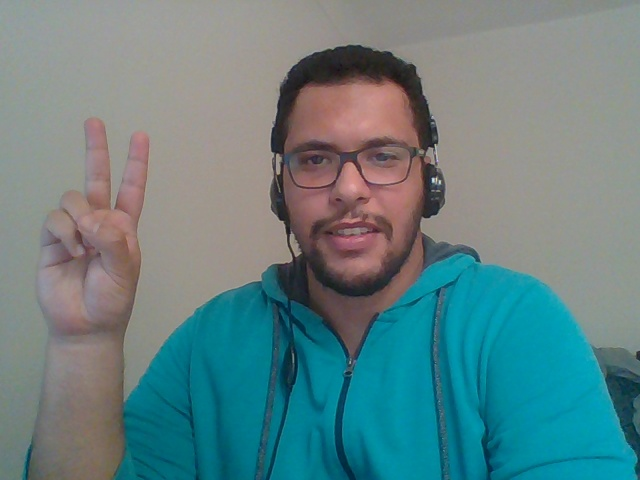vectory: (20, 108, 169, 368)
